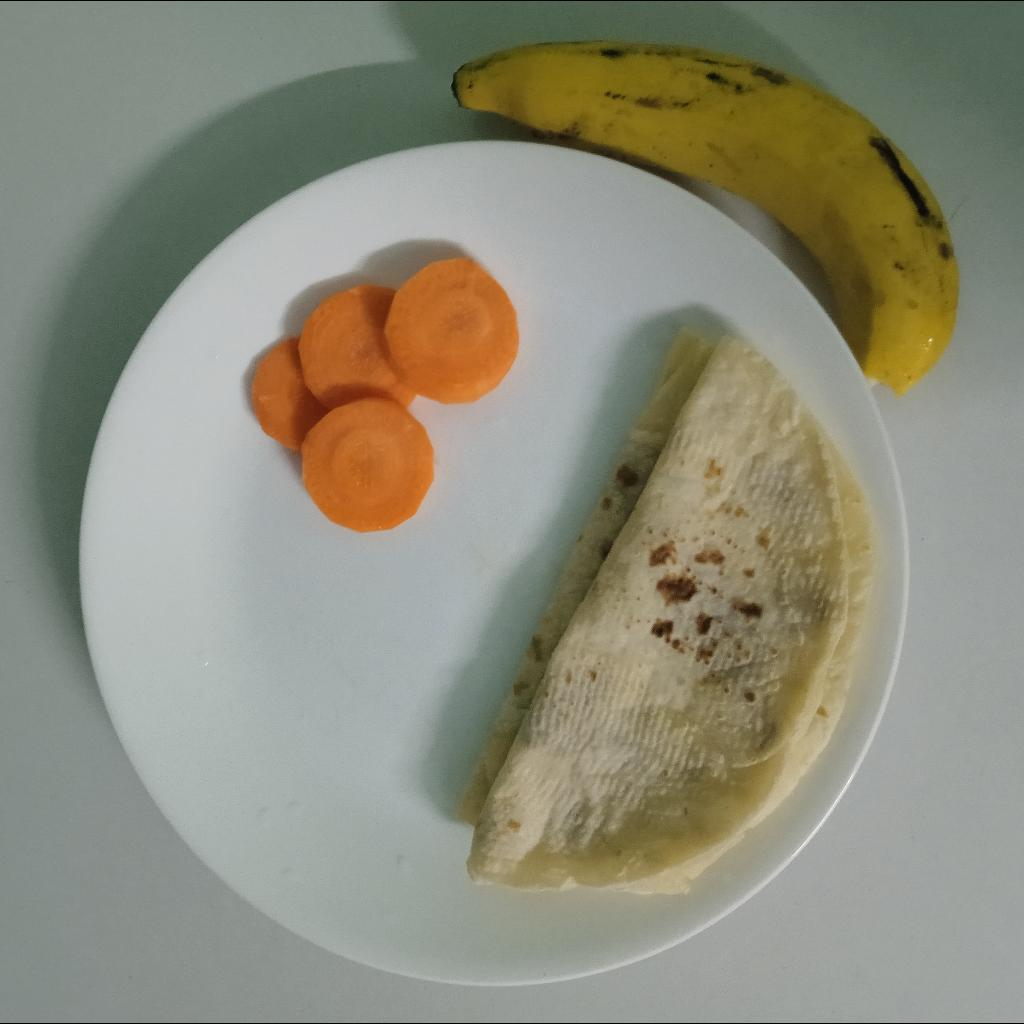banana: (450, 38, 966, 388)
carrot: (246, 257, 521, 530)
ruti: (452, 331, 879, 894)
